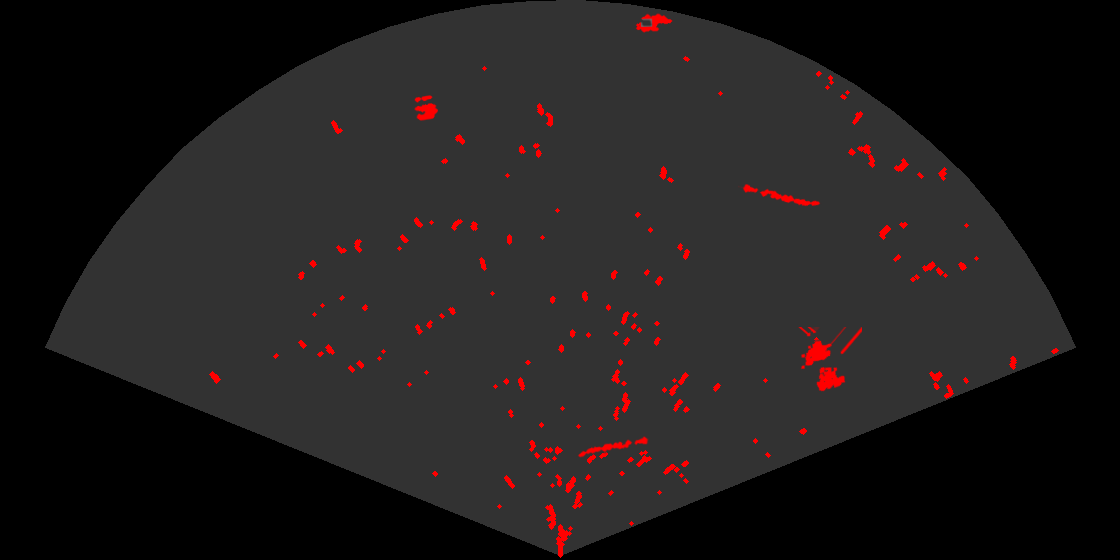AUV: (634, 12, 674, 34)
ball: (413, 94, 440, 122)
cage: (797, 327, 862, 393)
chain: (738, 182, 822, 208), (576, 435, 649, 459)
